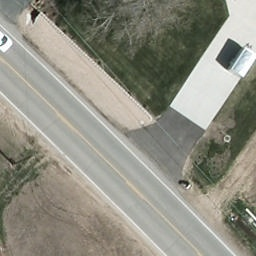car: (0, 16, 17, 56)
